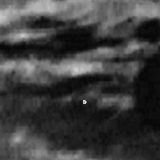Target: (81, 99, 88, 105)
